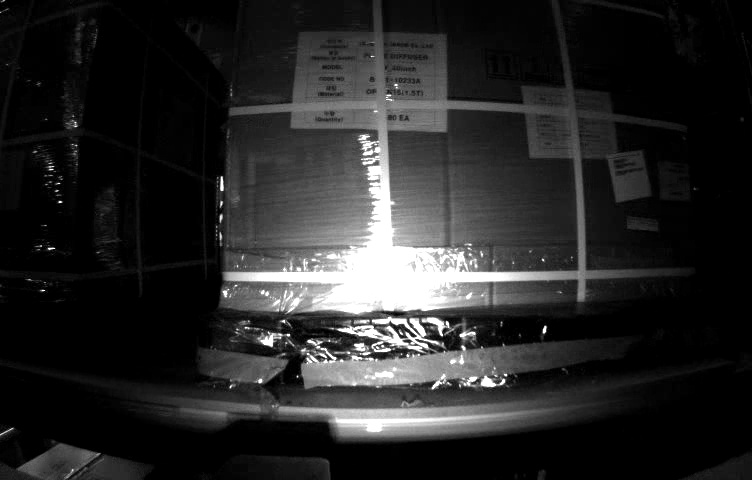True Barcode: (658, 161, 689, 202)
